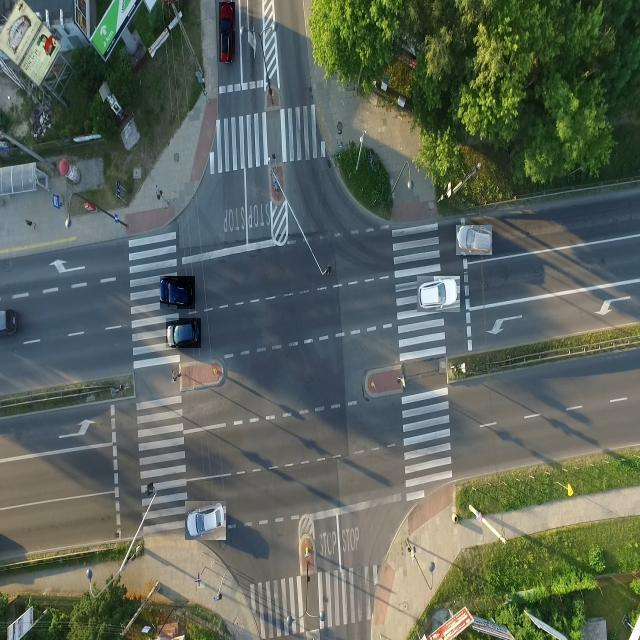car: (419, 277, 461, 309), (188, 504, 227, 536), (457, 224, 493, 254), (159, 277, 193, 305), (167, 319, 200, 345)
